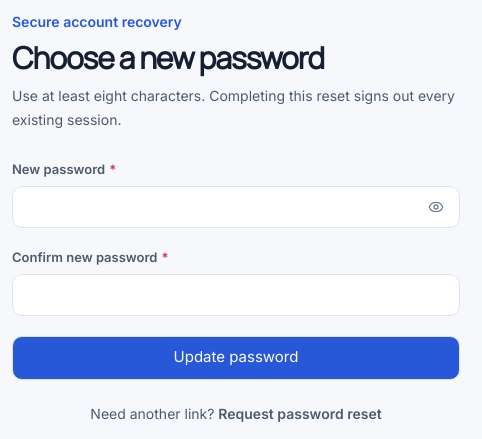
Test case: ResetPasswordPage › submits the token and password, clears stale session state, and confirms success
The image size is (482, 439).
Type "new-password" into the password field labelled "New password*" at coordinates (236, 207), box [12,186,460,228]
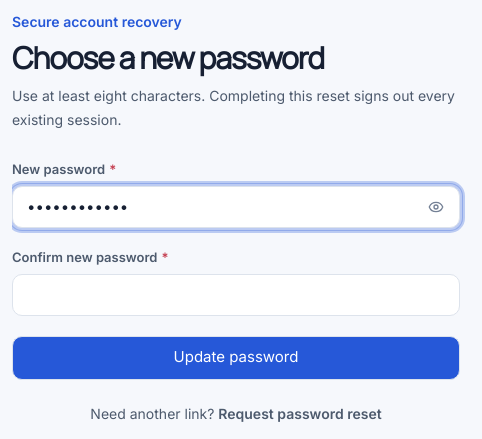
Type "new-password" into the password field labelled "Confirm new password*" at coordinates (236, 295), box [12,274,460,316]
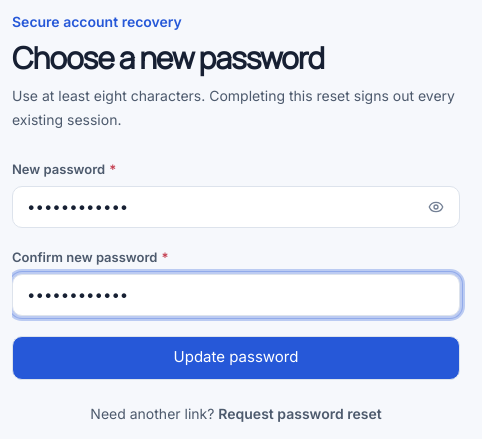
Click the button "Update password" at coordinates (236, 358), box [12,336,460,380]
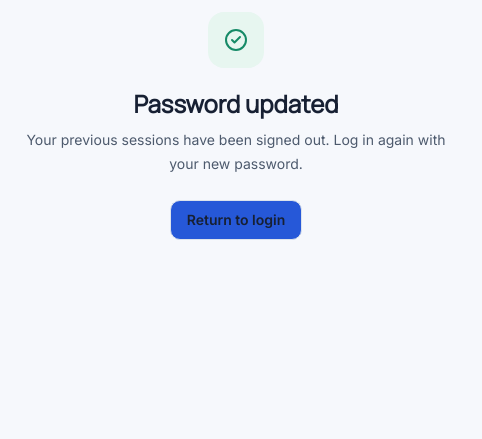
Expected: the heading "Password updated" is shown, [134,87,338,120]
